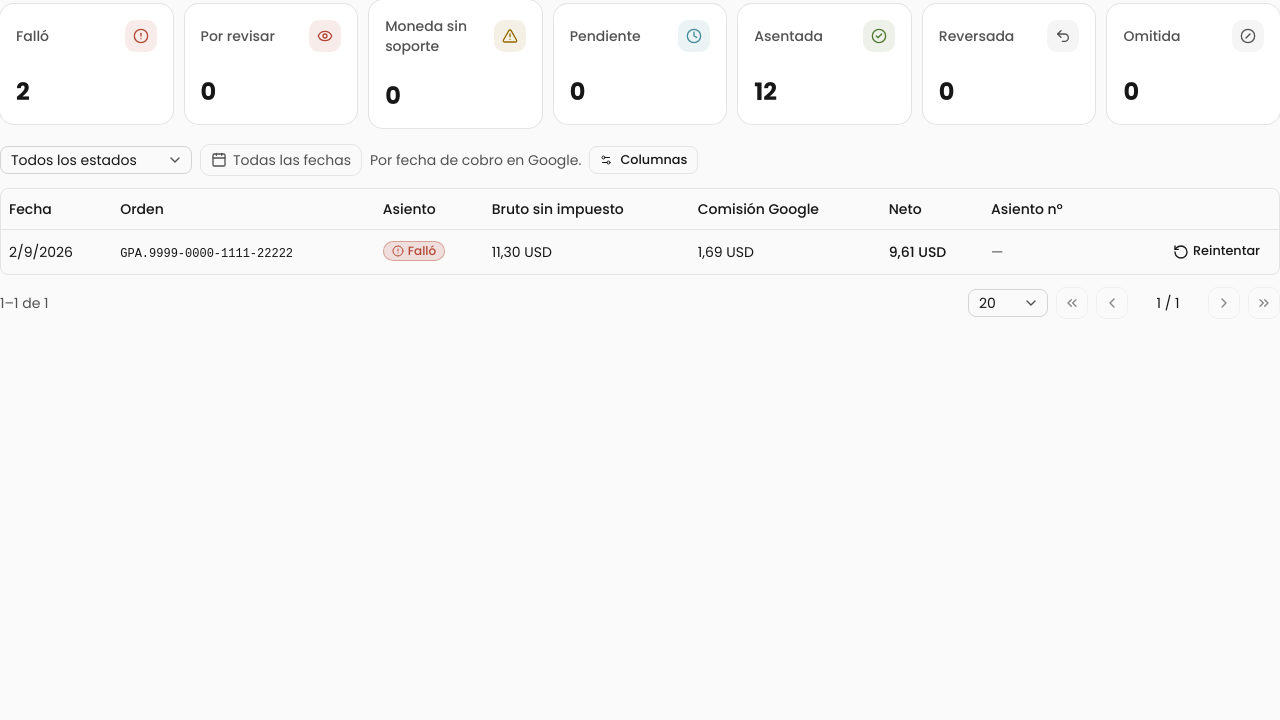
FinancePlayOrders — reintentar › el error del backend se lee donde se confirmó, no en un toast que se va
Click the button "Reintentar".
click(1216, 252)  # box [1162, 238, 1271, 266]
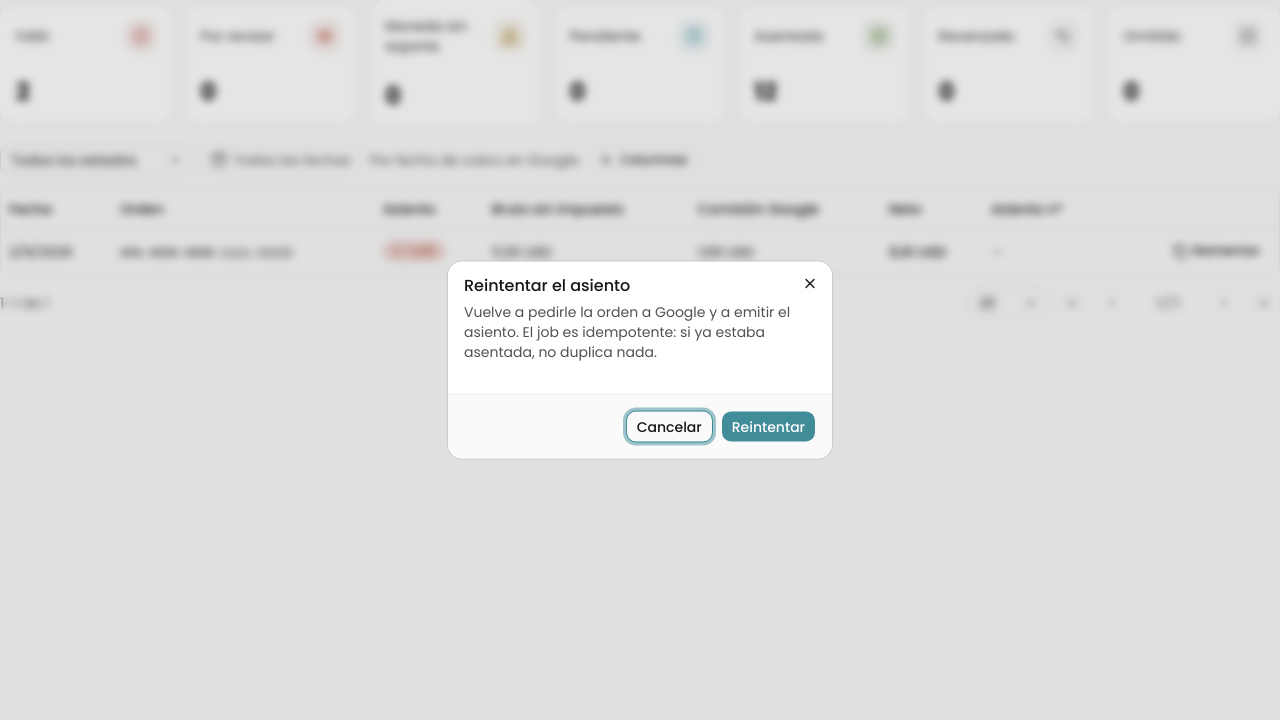
Click the button "Reintentar".
click(768, 426)  # box [721, 410, 816, 442]
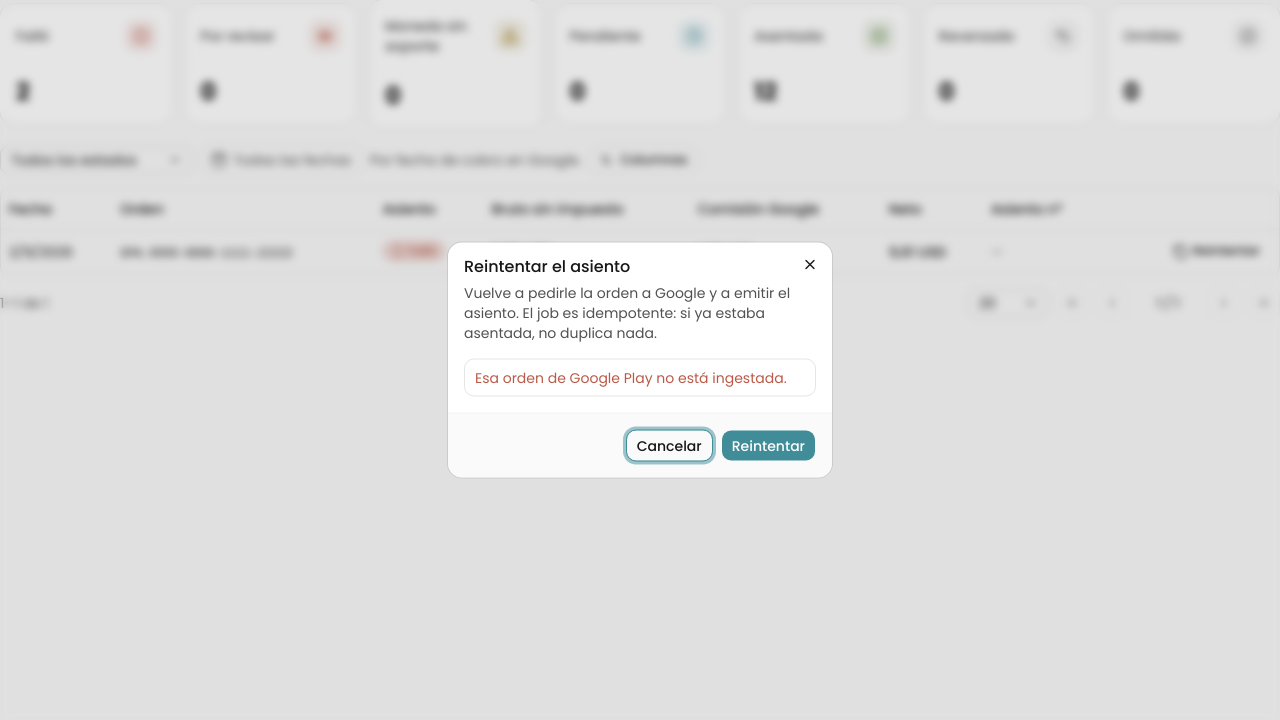
Expected: the text "Esa orden de Google Play no está ingestada." is shown, [475, 368, 805, 388]
